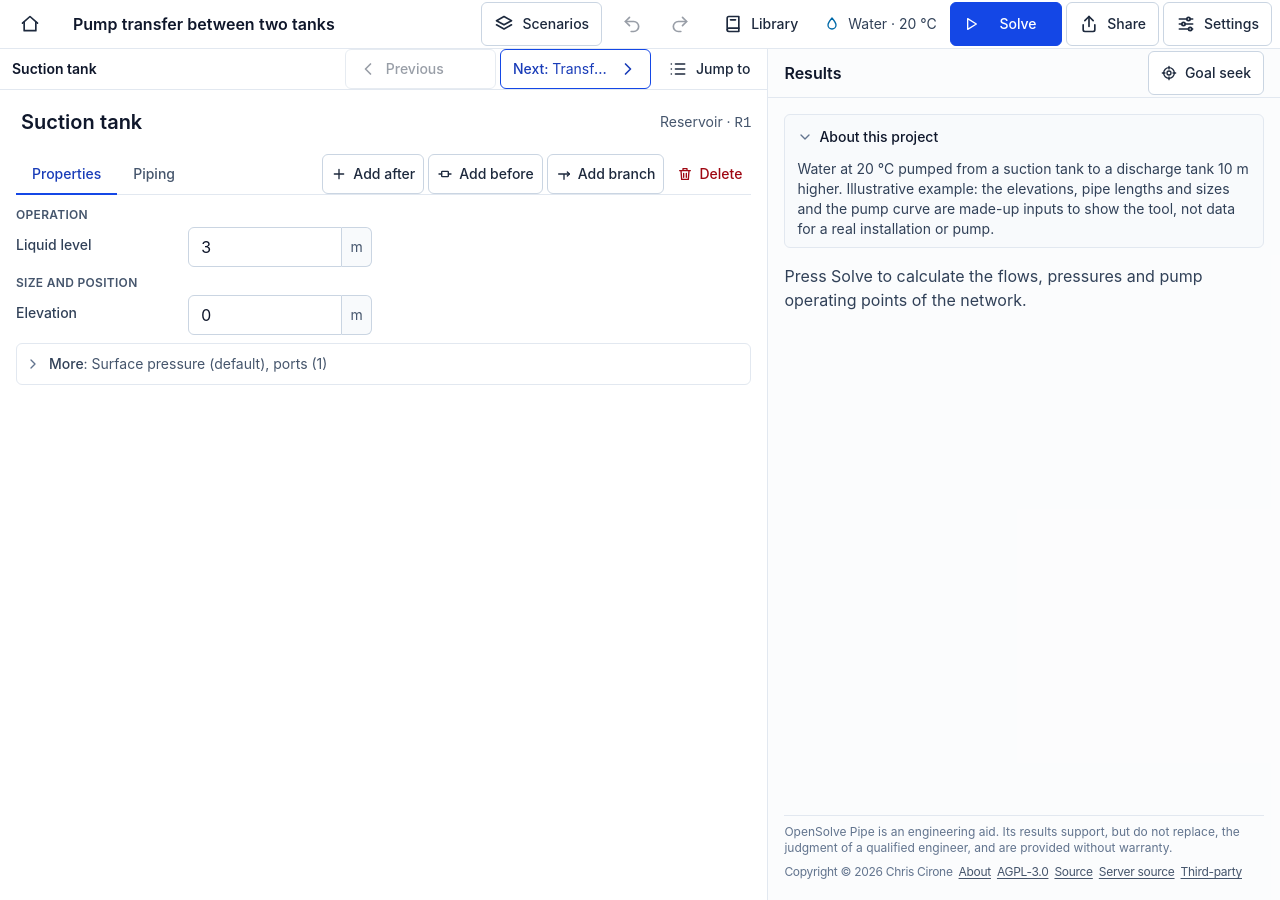
Scenario: running a goal seek › shows Seeking… with Cancel, a hidden timer and the live text; Cancel keeps the project
Click the button "Goal seek": (1206, 73) x1=1148 y1=51 x2=1264 y2=95
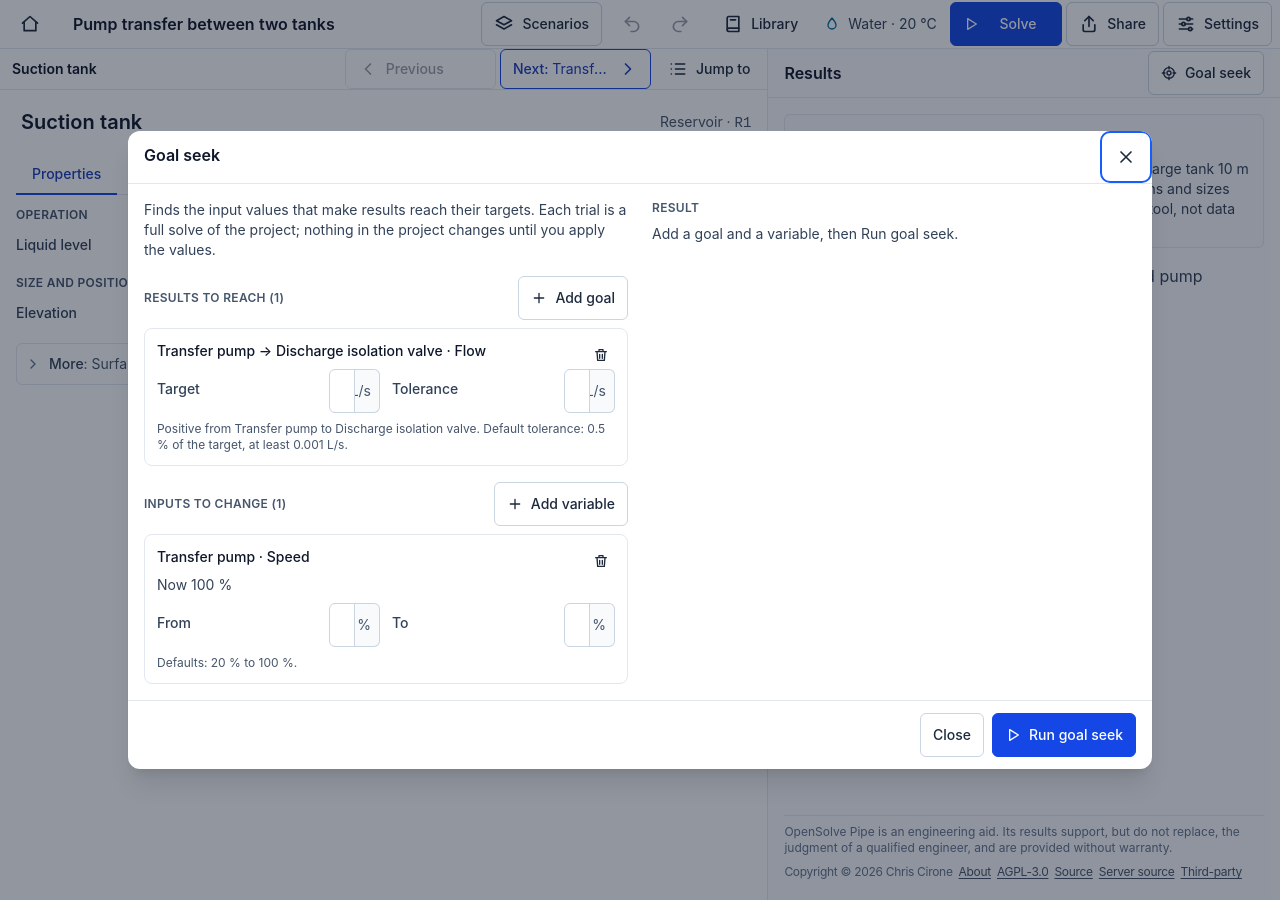
Click the button "Run goal seek": (1064, 735) x1=992 y1=713 x2=1136 y2=757
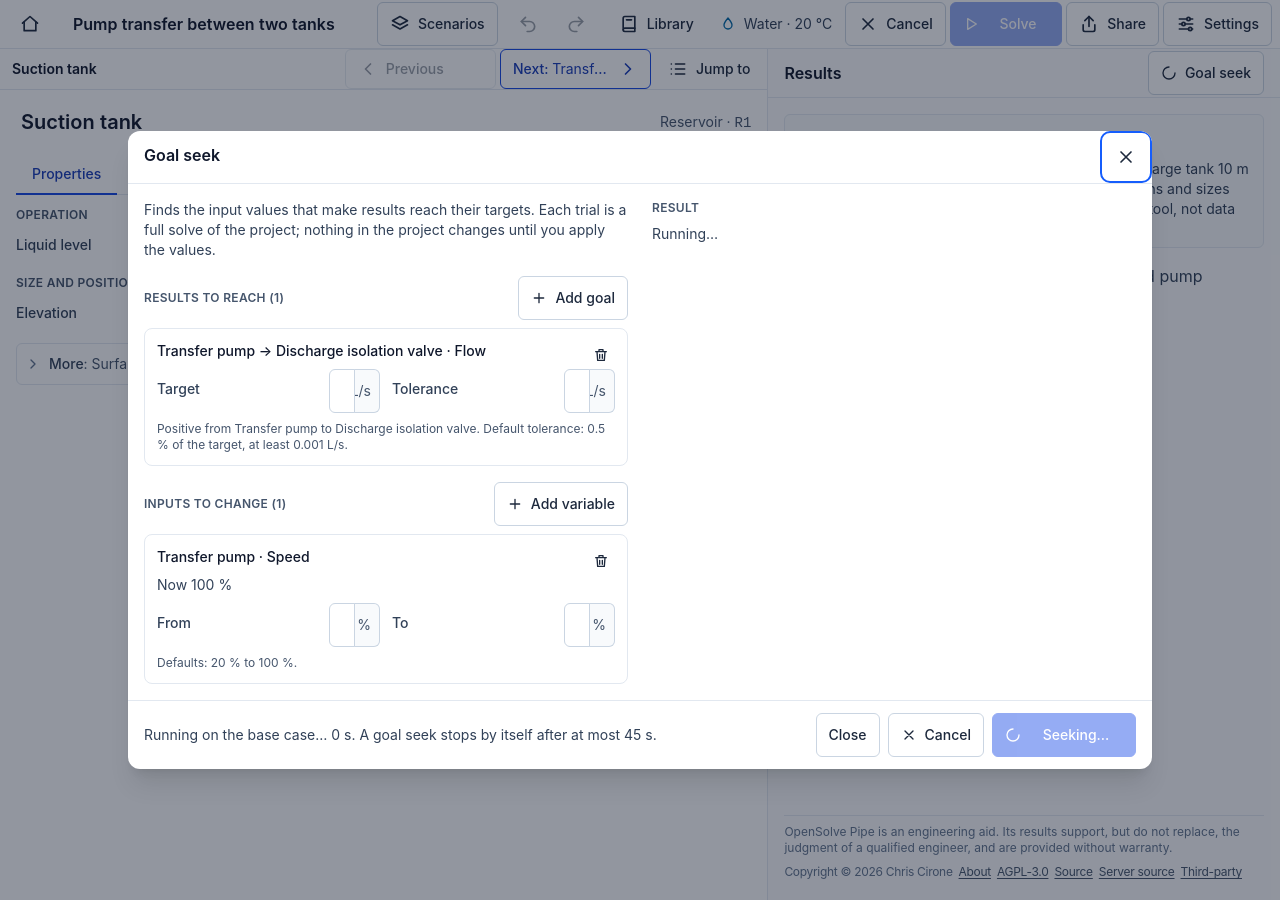
Expected: the text "Running…" is shown, x1=652 y1=225 x2=718 y2=242
Expected: the text "Running on the base case…" shows "A goal seek stops by itself after at most 45 s.", x1=355 y1=726 x2=657 y2=743
Click the button "Seeking…": (1064, 735) x1=992 y1=713 x2=1136 y2=757
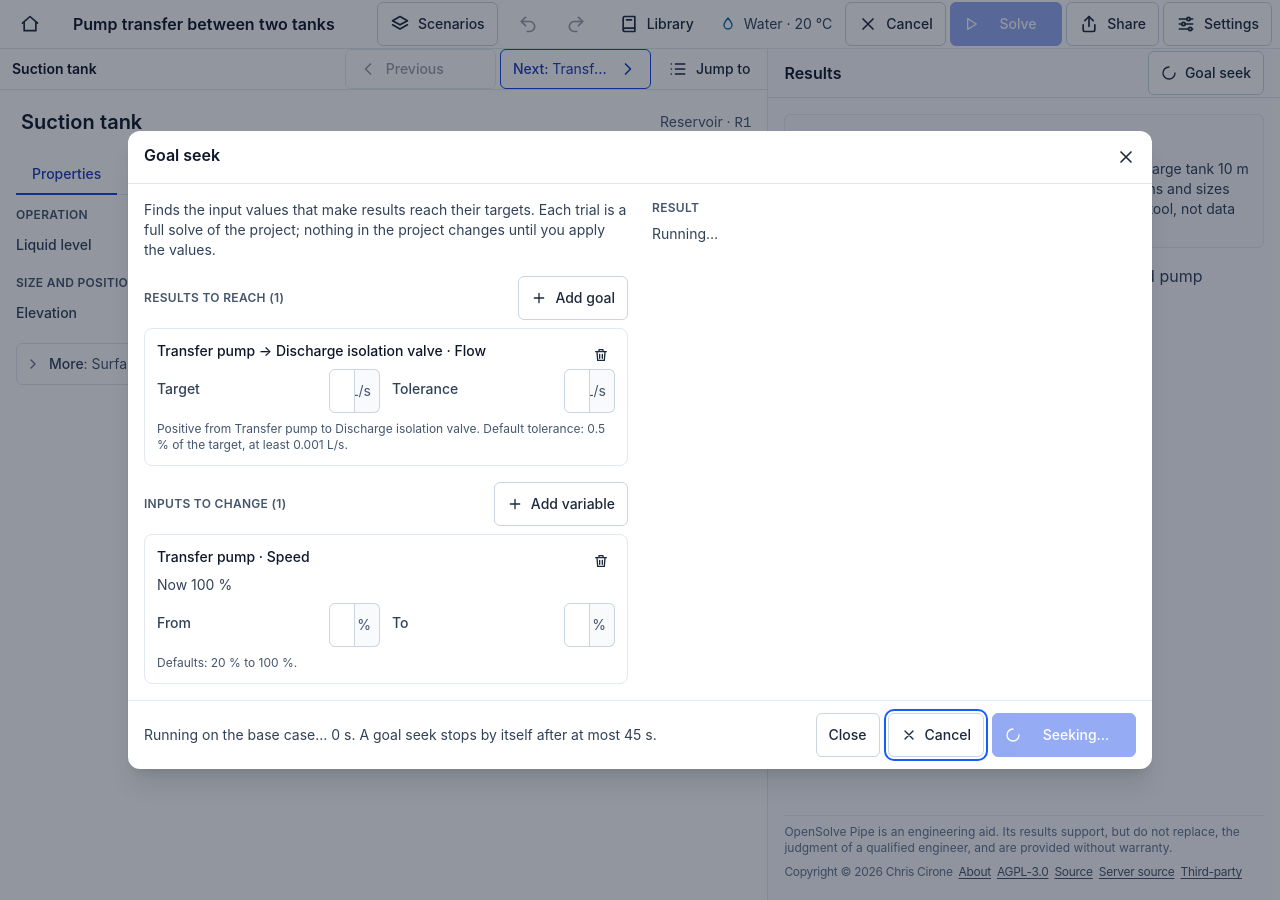
Click the button with aria-label "Cancel goal seek": (936, 735) x1=888 y1=713 x2=984 y2=757
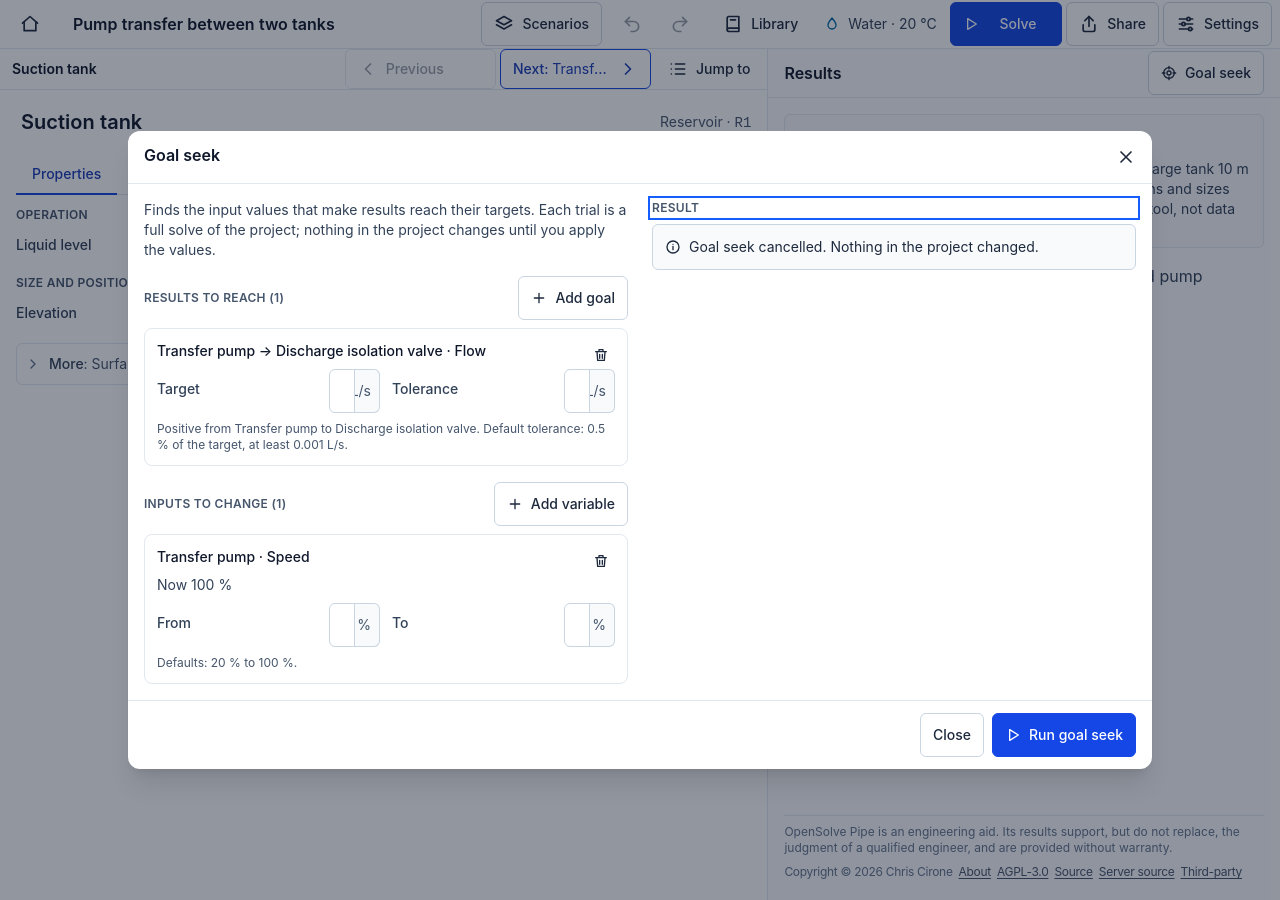
Expected: the text "Goal seek cancelled. Nothing in the project changed." is shown, x1=689 y1=237 x2=1039 y2=257
